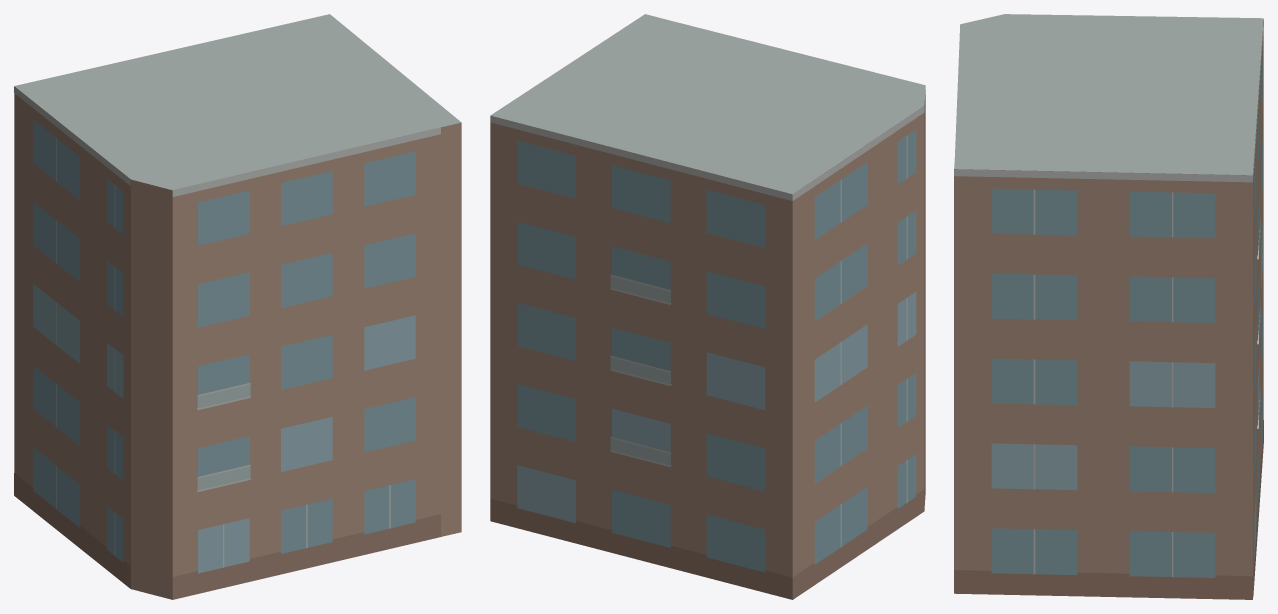
File: survey-upis-33010752.glb
3 renders of one model, left to right at view 1: azimuth 30°, elevation 25°; view 2: azimuth 150°, elevation 25°; view 3: azimuth 270°, elevation 25°, orthographic. The views are drawn at different scales.
Visible parts, largest first — view 1: survey-upis-33010752.tmp; view 2: survey-upis-33010752.tmp; view 3: survey-upis-33010752.tmp.
Part boxes in pixels (x1,y1,x2,y2): survey-upis-33010752.tmp: (14,14,461,599); survey-upis-33010752.tmp: (490,14,925,599); survey-upis-33010752.tmp: (954,14,1263,599).
Bounding box in the file's own units: 11.86 × 14.55 × 9.62.
